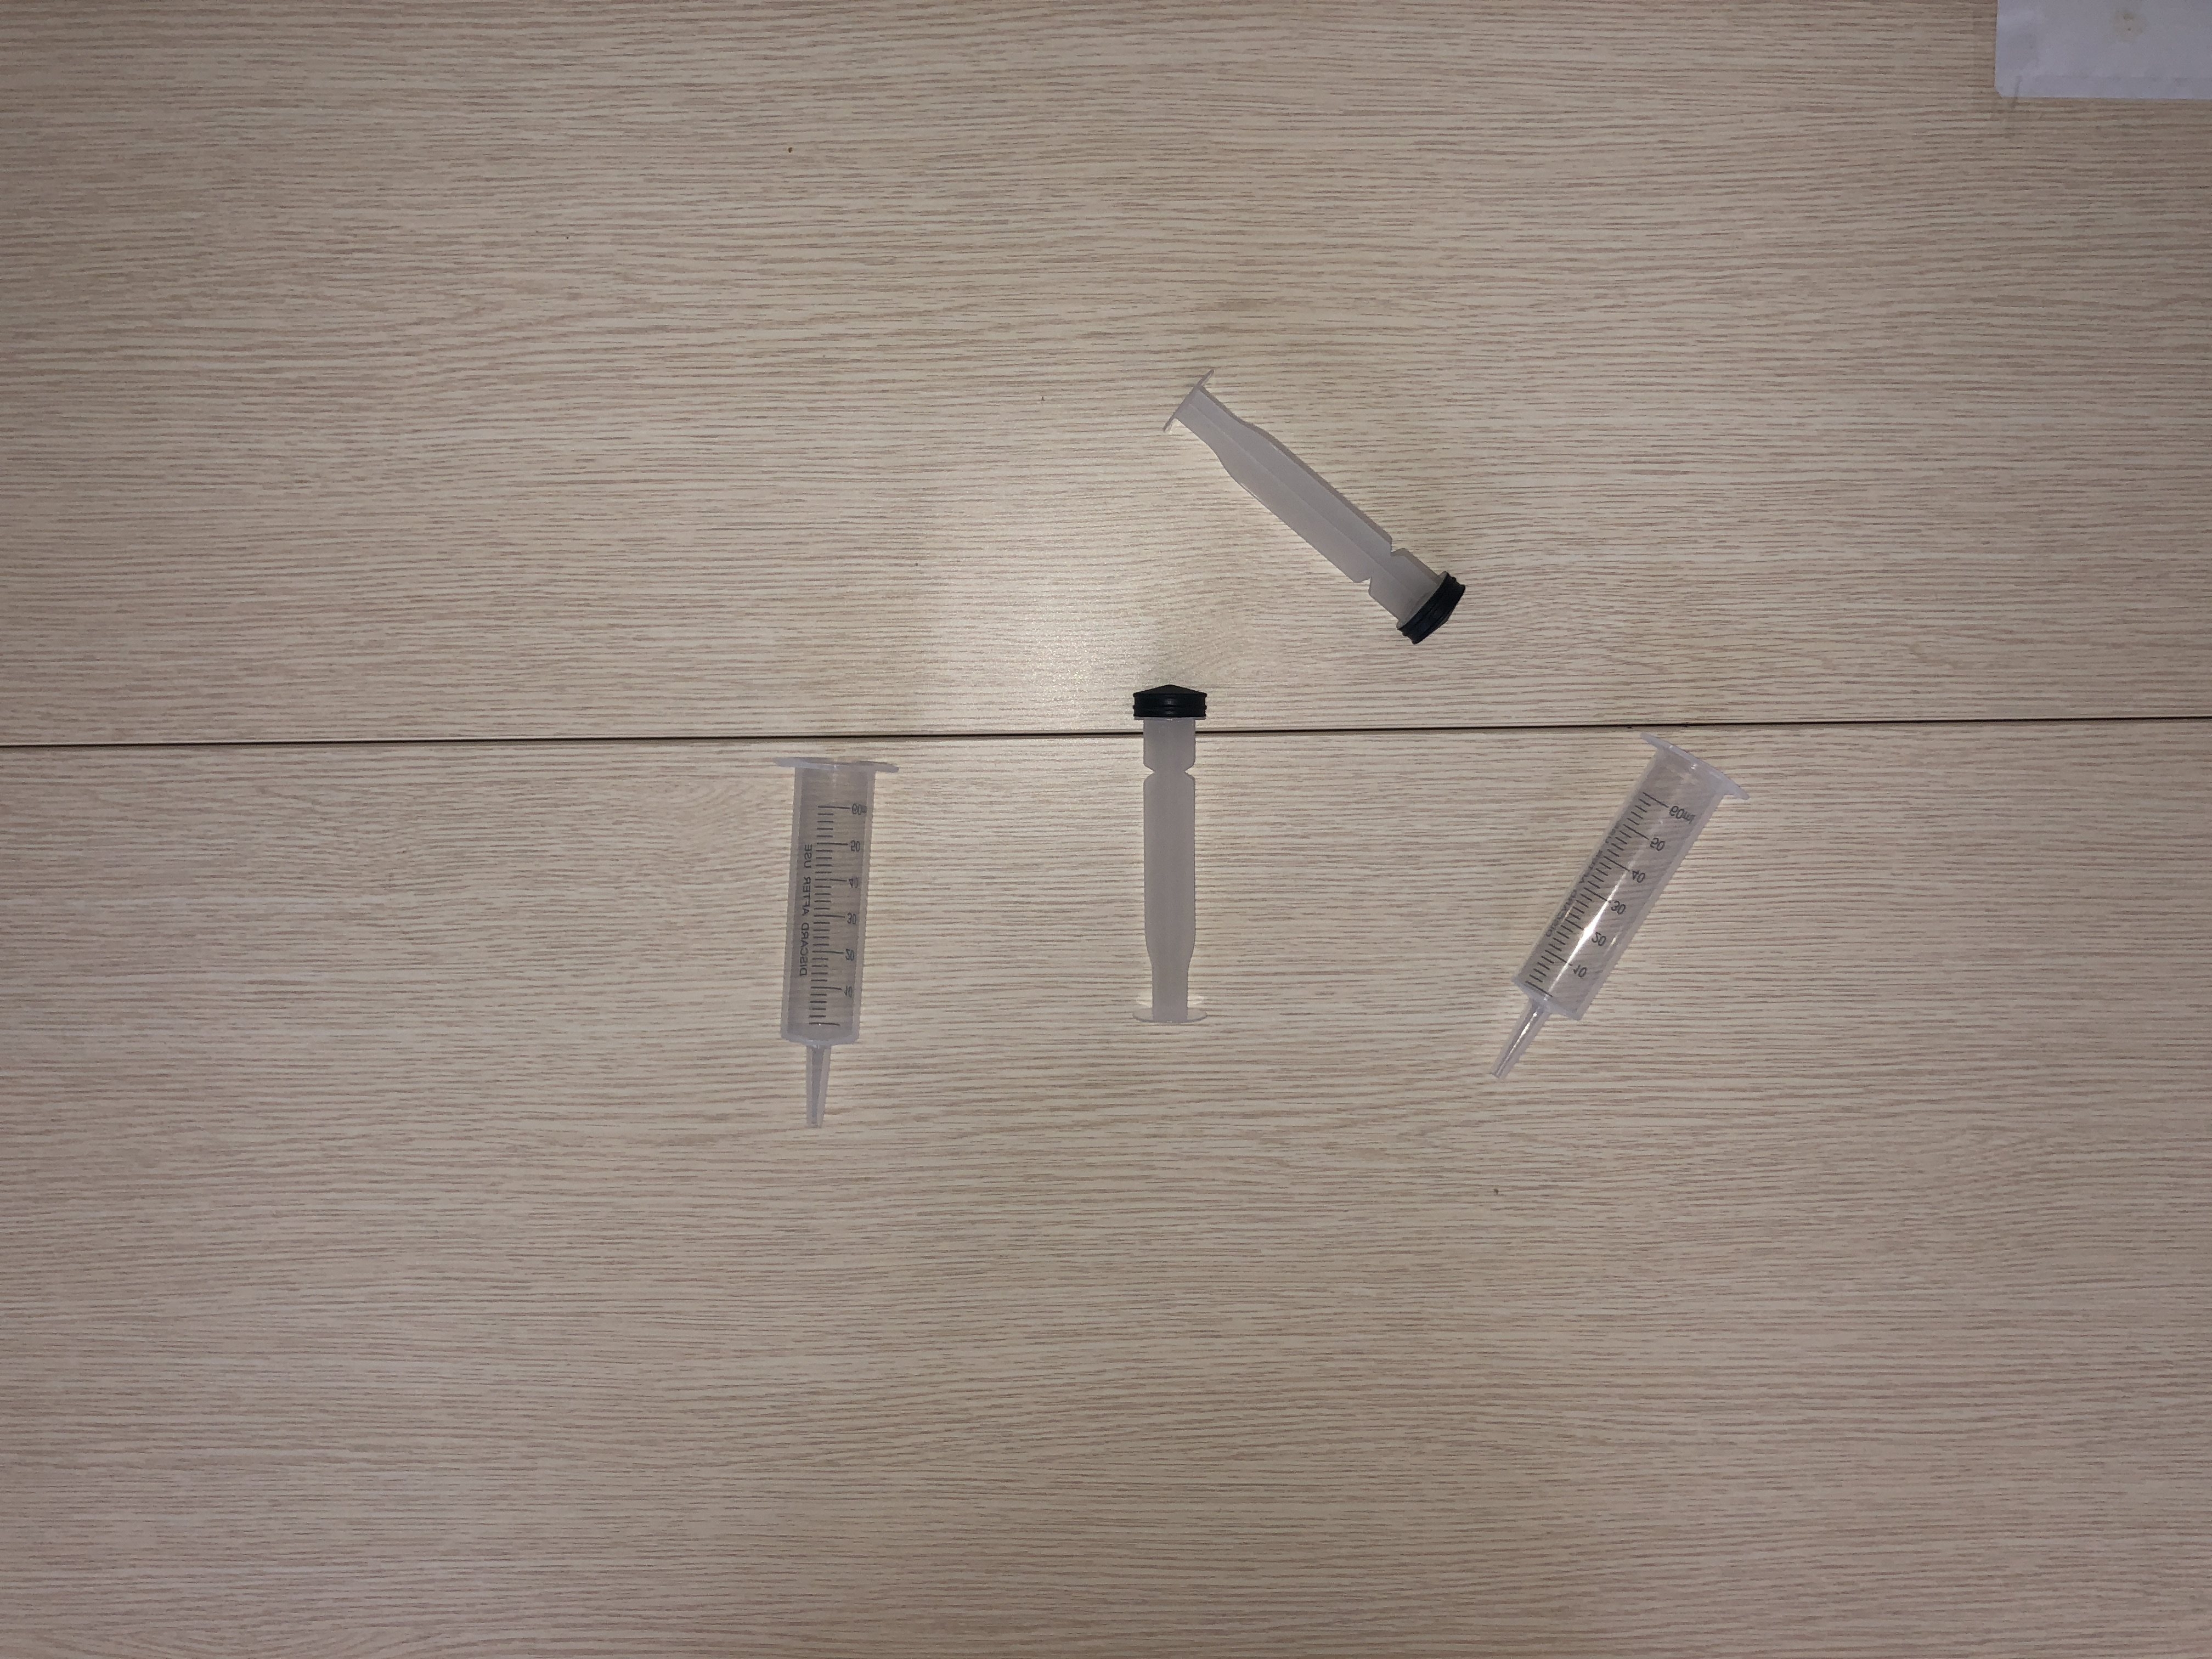plunger: (1163, 368, 1472, 645), (1129, 676, 1216, 1035)
syringe: (1491, 732, 1754, 1080), (763, 746, 902, 1131)
